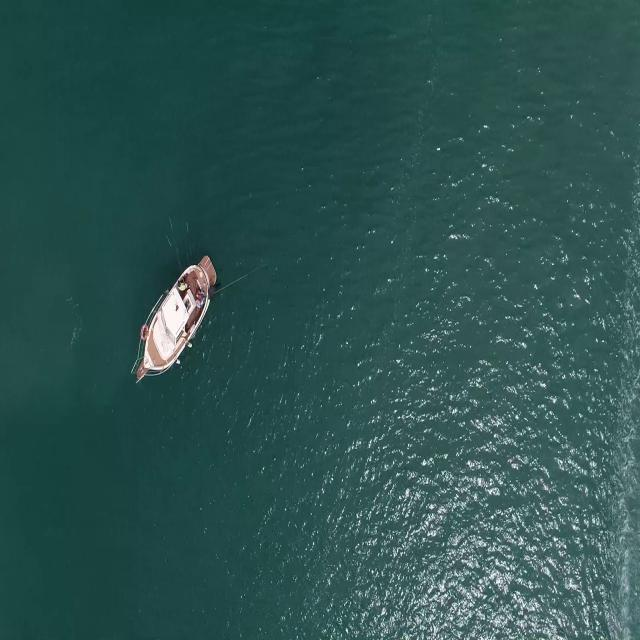boat: (132, 256, 218, 377)
life_buoy: (140, 319, 150, 342)
person: (175, 278, 192, 290), (194, 296, 205, 311)
